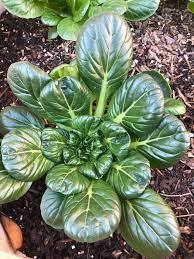Healthy-Pechay: (12, 59, 167, 245), (103, 189, 193, 255), (77, 12, 137, 71), (3, 0, 160, 16), (155, 100, 187, 168), (38, 13, 85, 38)
